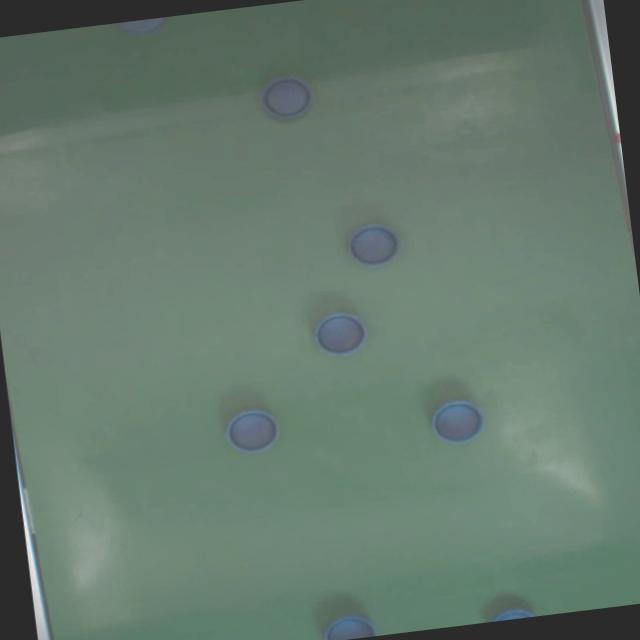dark blue: (222, 405, 280, 455), (312, 308, 369, 358), (348, 224, 401, 268), (261, 75, 314, 119), (433, 400, 486, 444)
